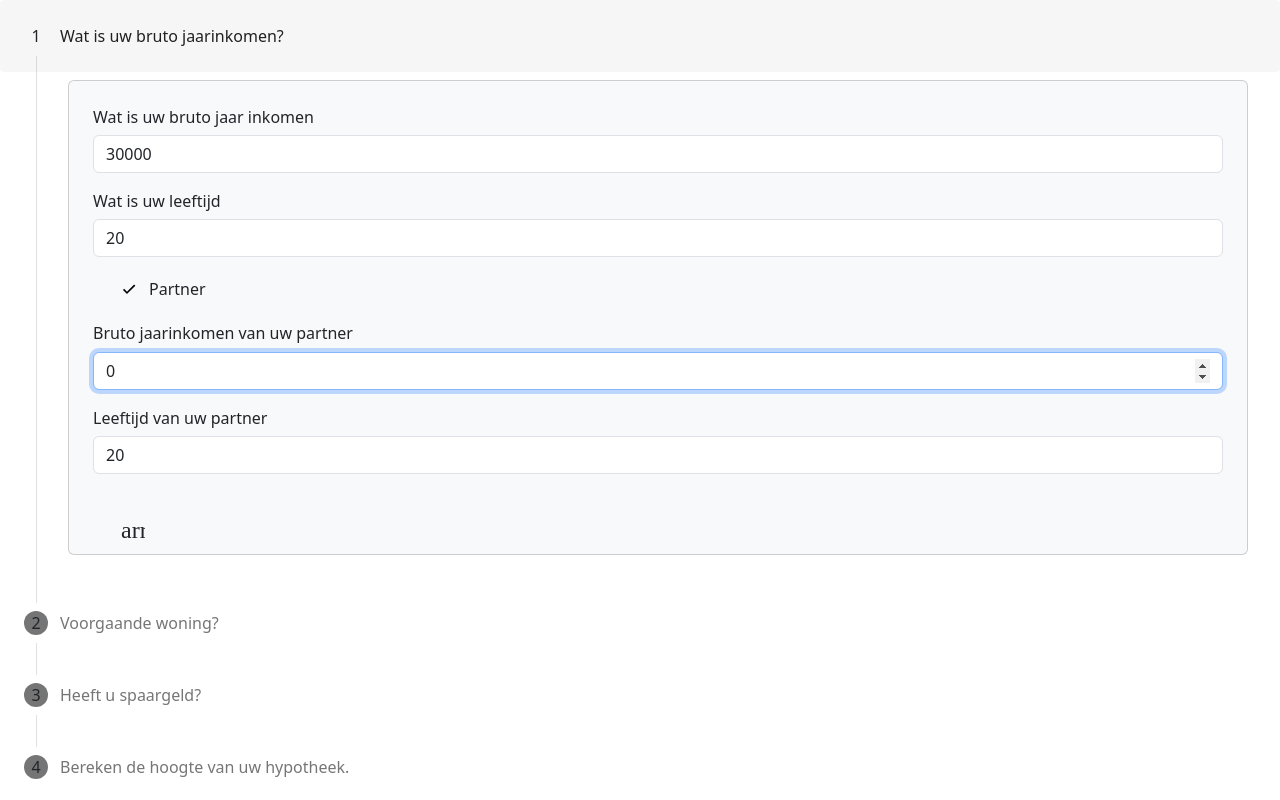
FormComponent › Step 1 › should show an error on bruto jaar inkomen of the partner when a invalid value is entered
Clear the number field labelled "Bruto jaarinkomen van uw partner" at (658, 371), box top-left (93, 352), bottom-right (1223, 390)
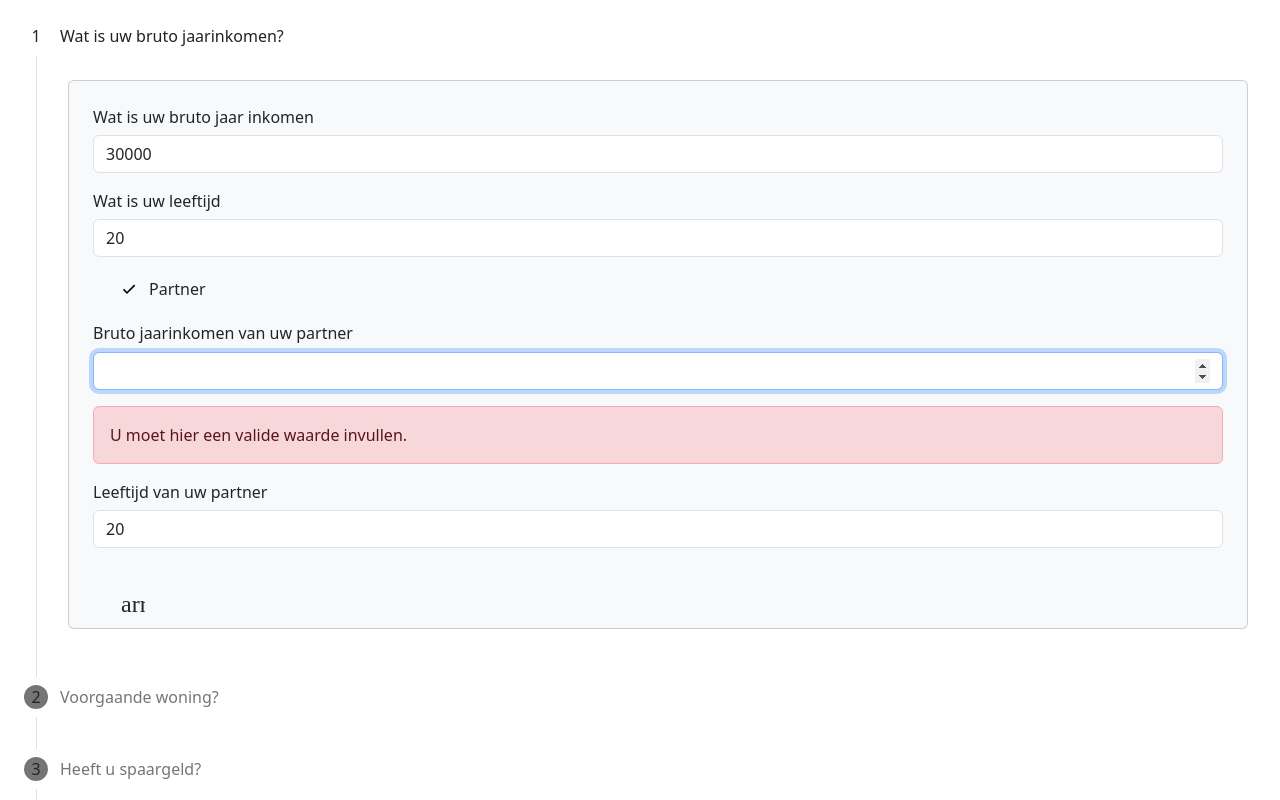
Check: the text "U moet hier een valide waarde invullen." is shown, box top-left (110, 424), bottom-right (407, 446)
